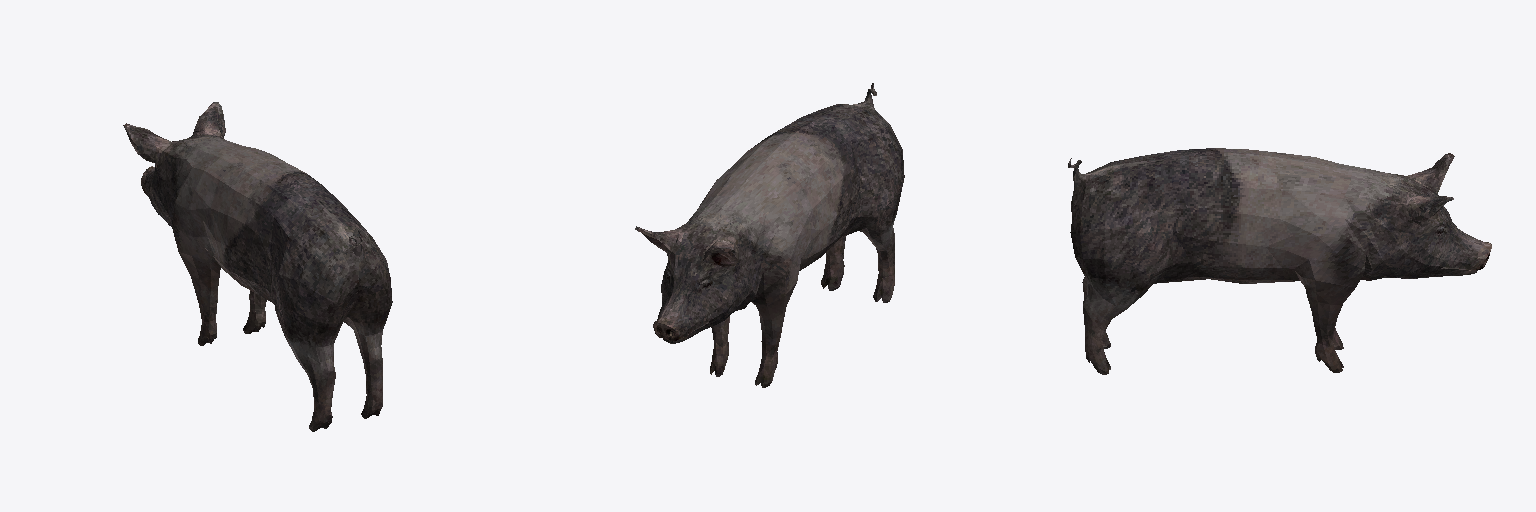
3 renders of one model, left to right at view 1: azimuth 30°, elevation 25°; view 2: azimuth 150°, elevation 25°; view 3: azimuth 270°, elevation 25°, orthographic.
Visible parts, largest first — view 1: Pig_type_02_C_OBJ; view 2: Pig_type_02_C_OBJ; view 3: Pig_type_02_C_OBJ.
Part boxes in pixels (x1,y1,x2,y2): Pig_type_02_C_OBJ: (123,102,392,431); Pig_type_02_C_OBJ: (635,83,904,387); Pig_type_02_C_OBJ: (1068,148,1491,374).
Size of the model in its own units: 38 by 74.32 by 139.
1 materials, 1 textured.